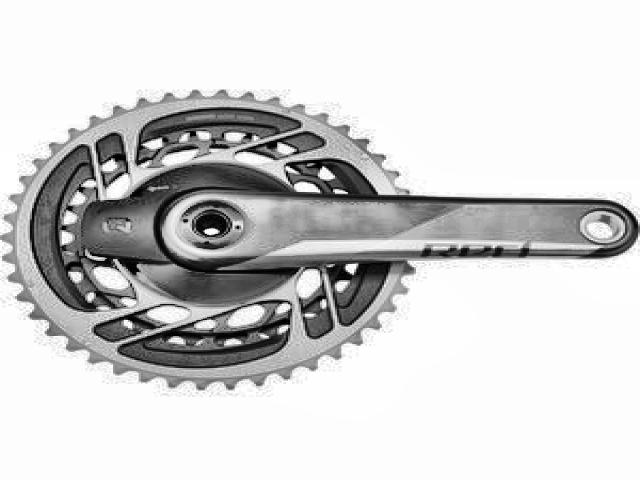cranks_set: (3, 88, 640, 390)
